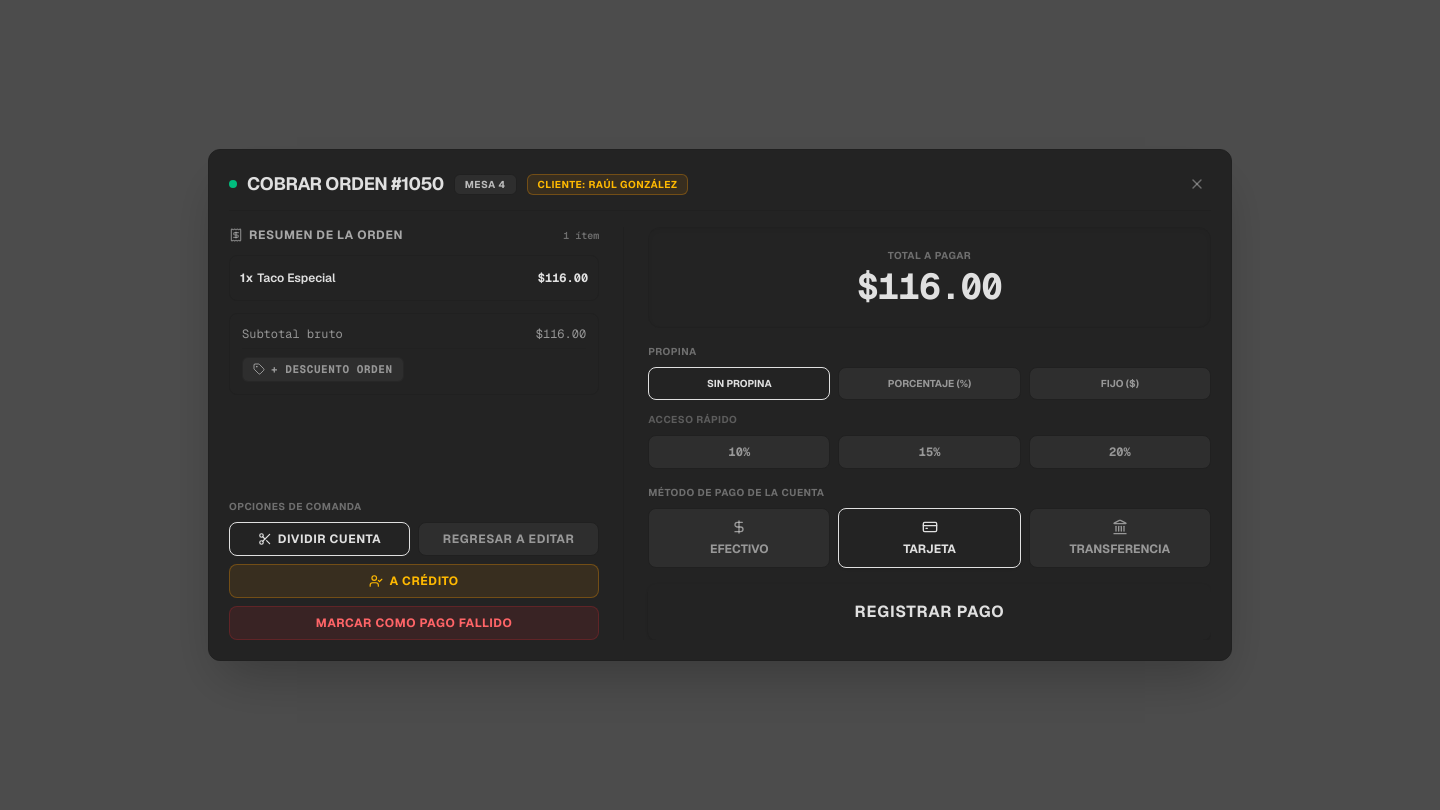
Test case: POSCheckoutModal Component › should show error when waiter enters invalid PIN
The width and height of the screenshot is (1440, 810).
Click the button "A Crédito" at (414, 581), box [229,564,599,598]
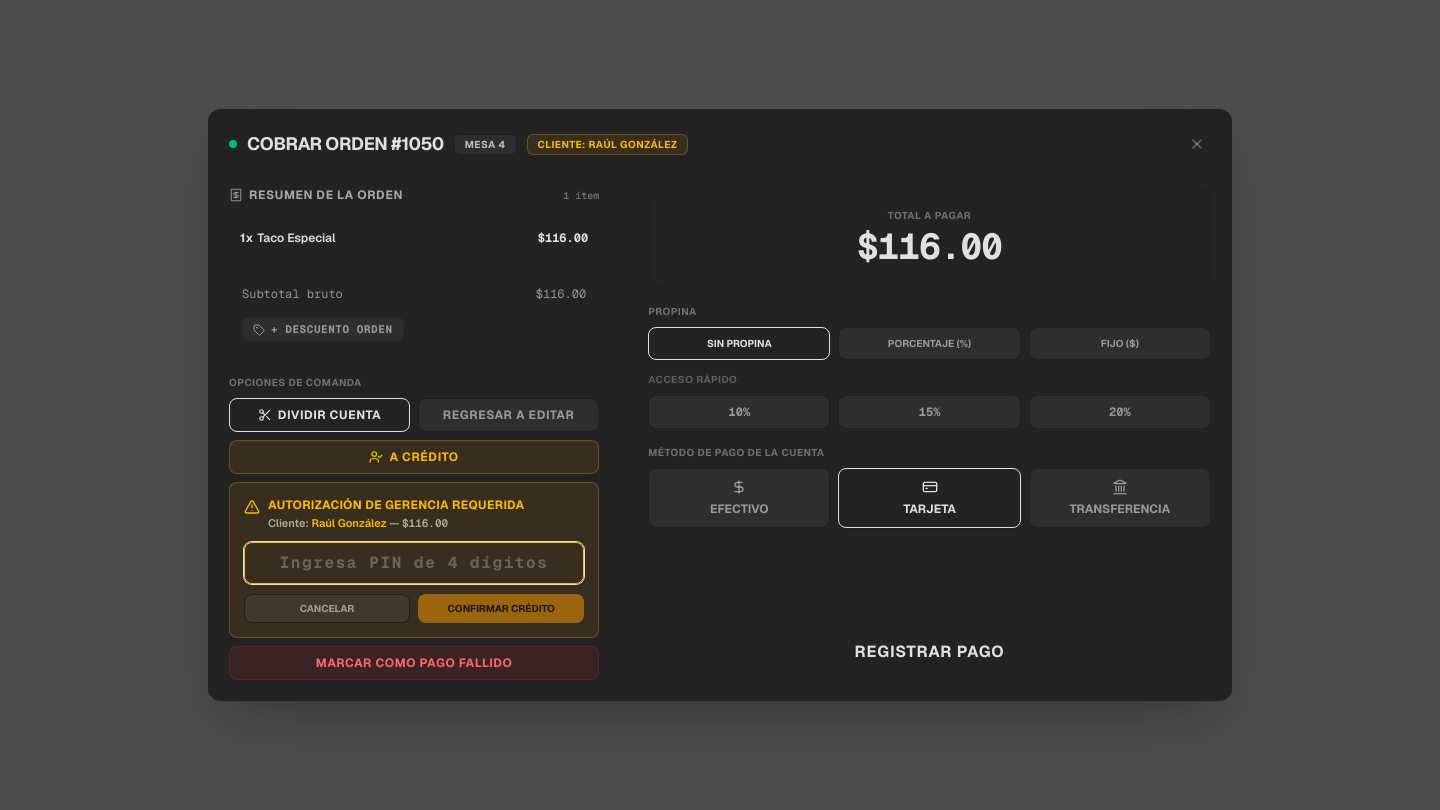
Type "9999" into the password field with placeholder "Ingresa PIN de 4 dígitos" at (414, 563), box [244,542,584,584]
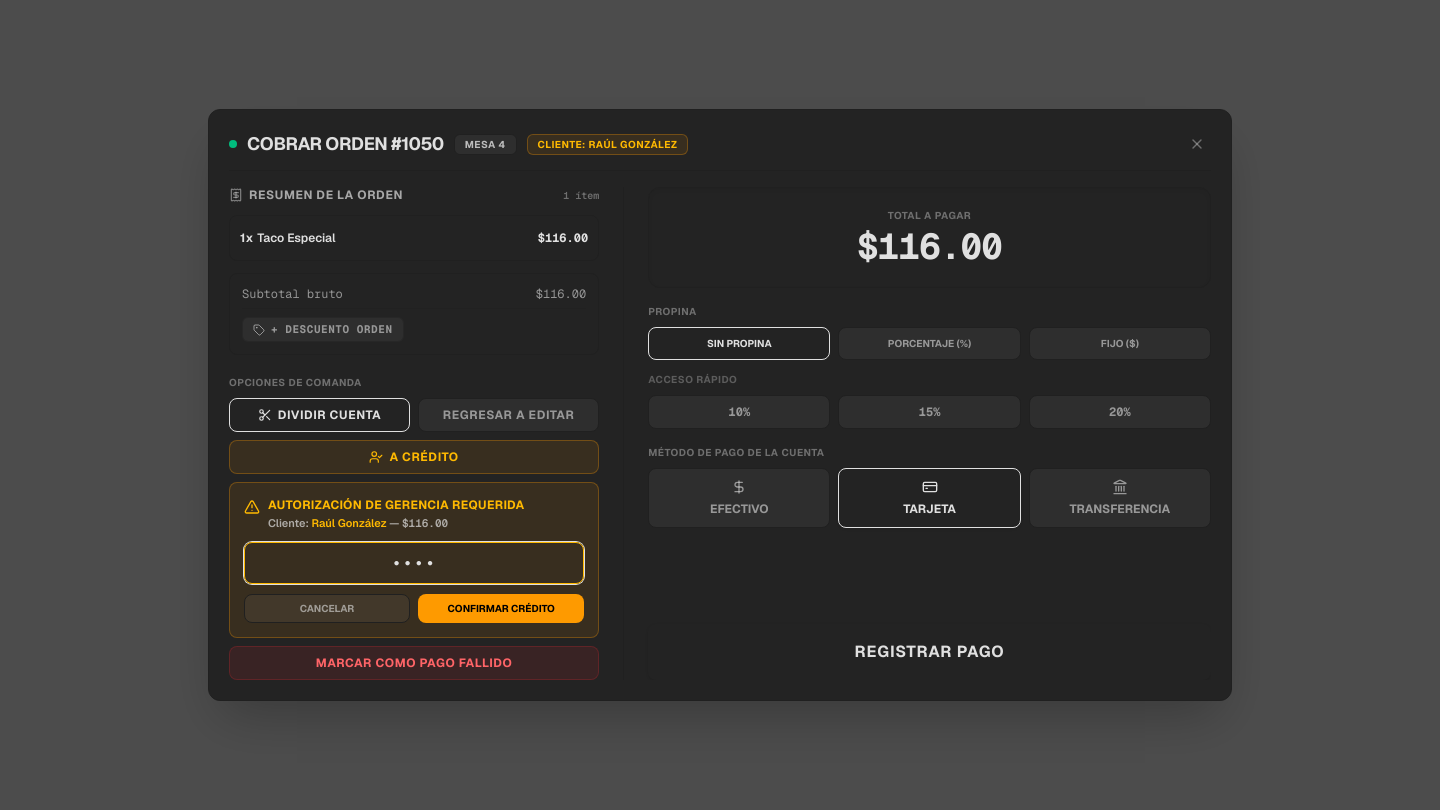
Click the button "Confirmar Crédito" at (501, 608), box [418,594,584,623]
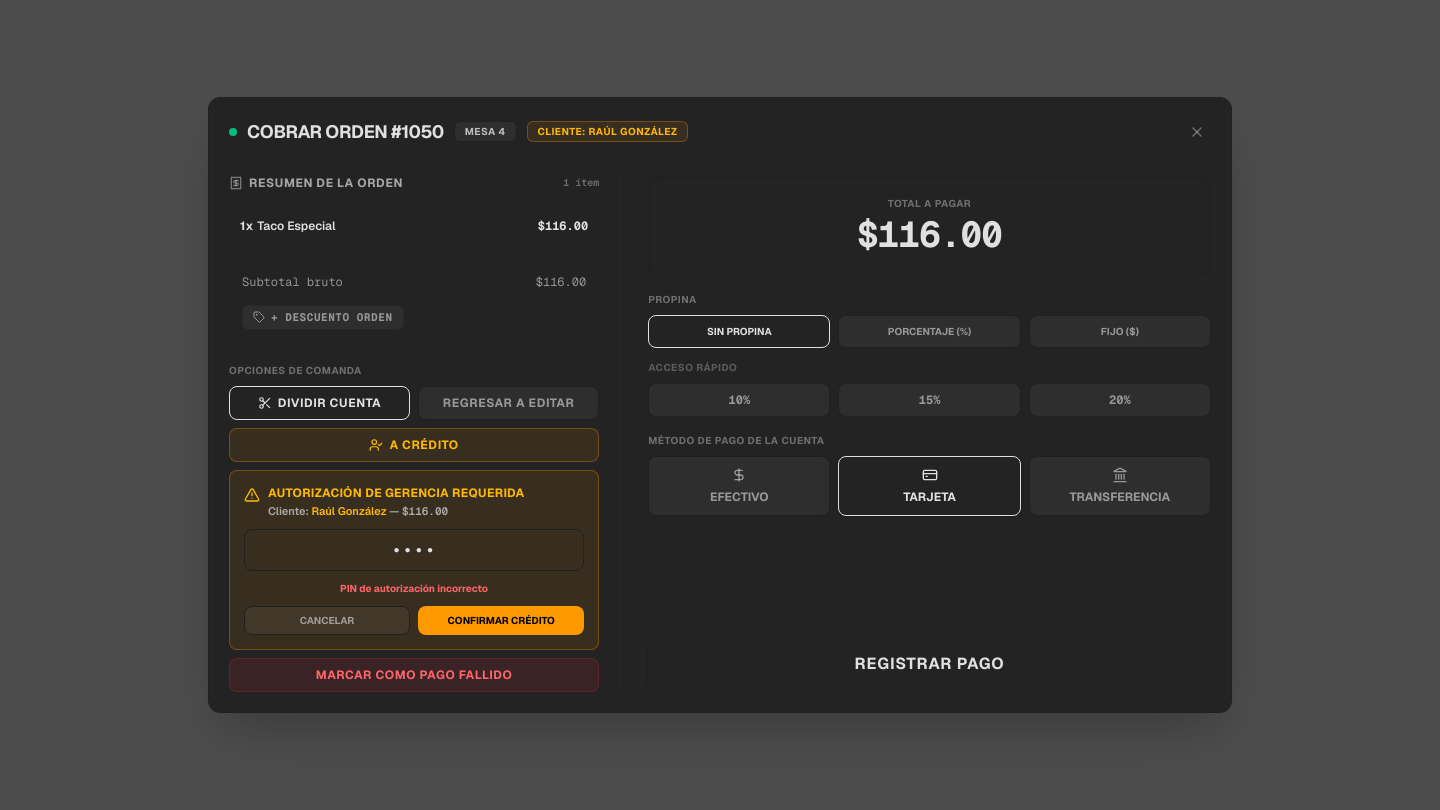
expect the text "PIN de autorización incorrecto" is shown: met, box [340,582,488,595]
